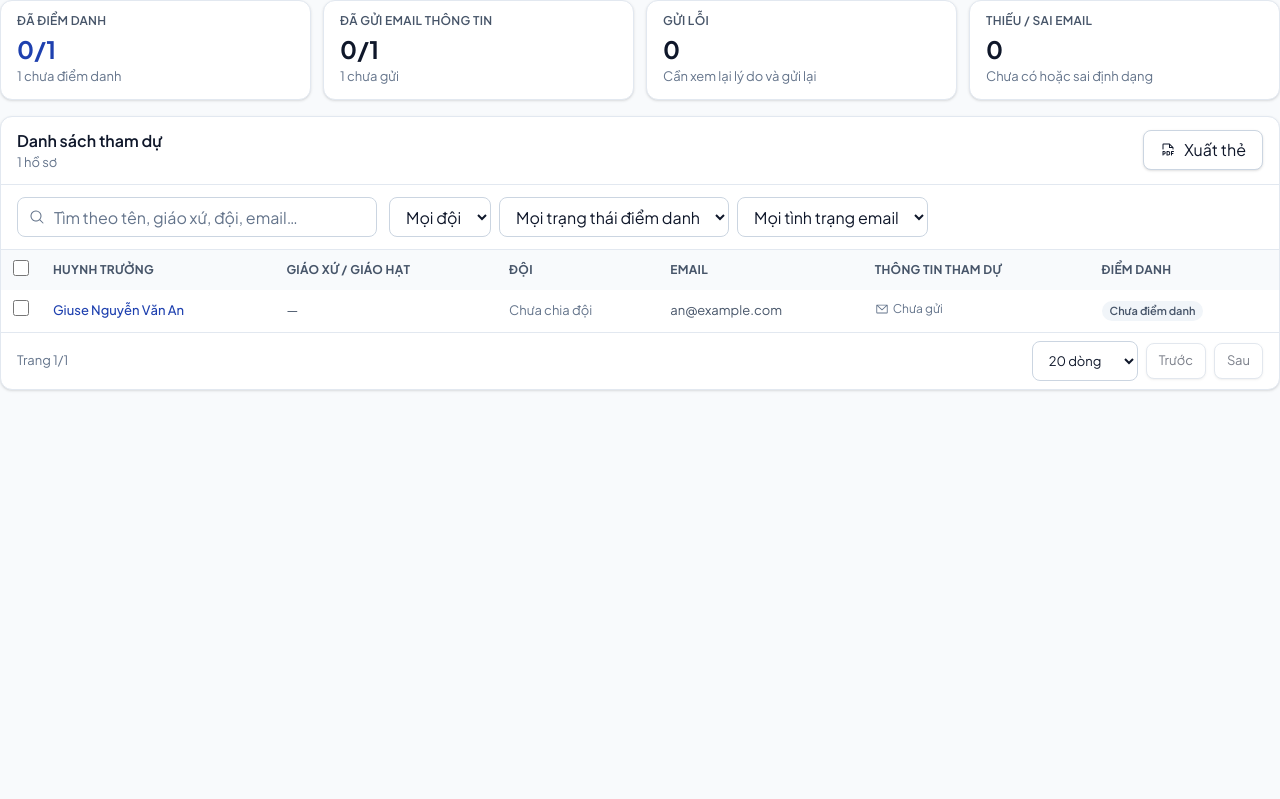
hub: detail link and separate scan permission › clicking a name opens the detail drawer for that hồ sơ
Click the button with aria-label "Xem chi tiết Nguyễn Văn An": (118, 311) [53, 301, 184, 320]
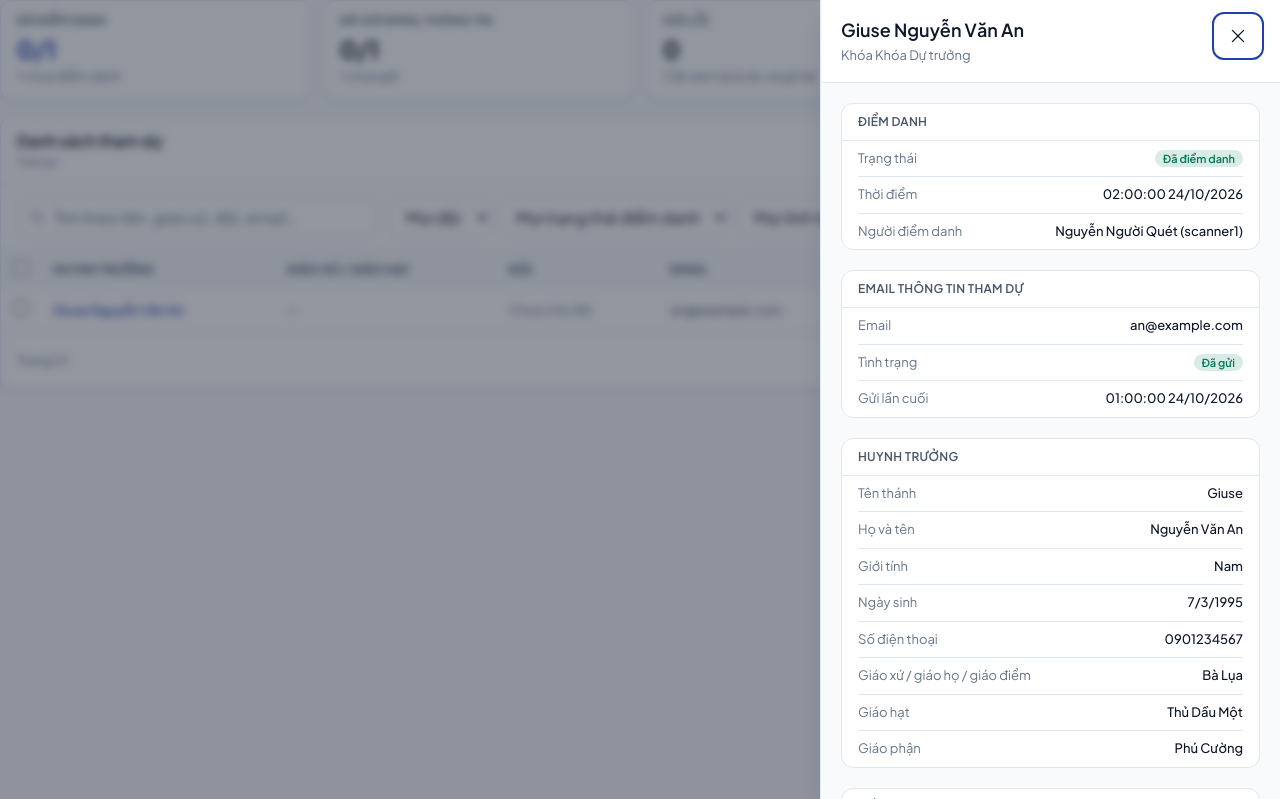
Expected: the text "Khóa Dự trưởng" is shown, [841, 47, 971, 63]
Expected: the text "Nguyễn Người Quét (scanner1)" is shown, [1055, 222, 1243, 241]
